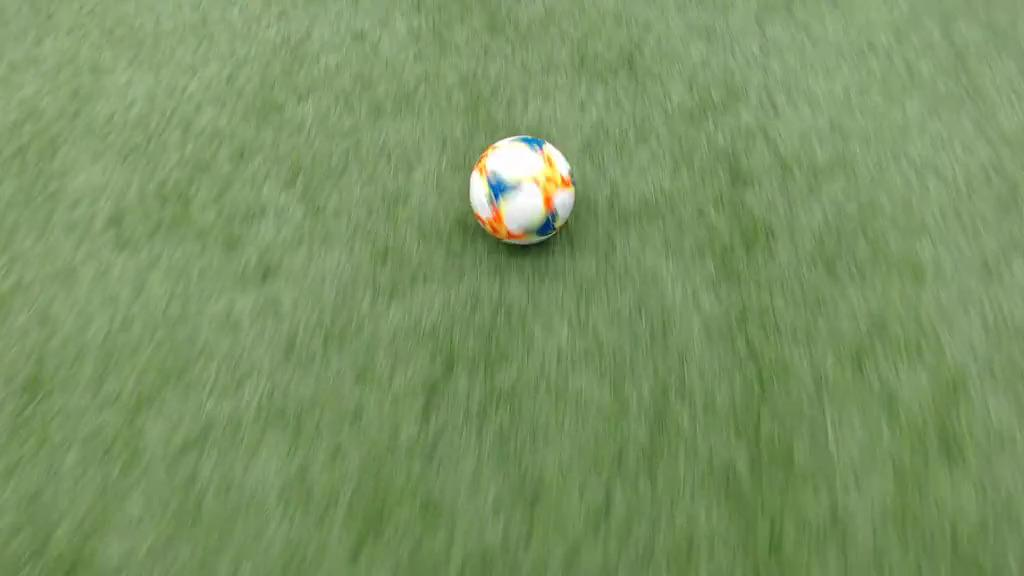ball: (469, 135, 573, 247)
